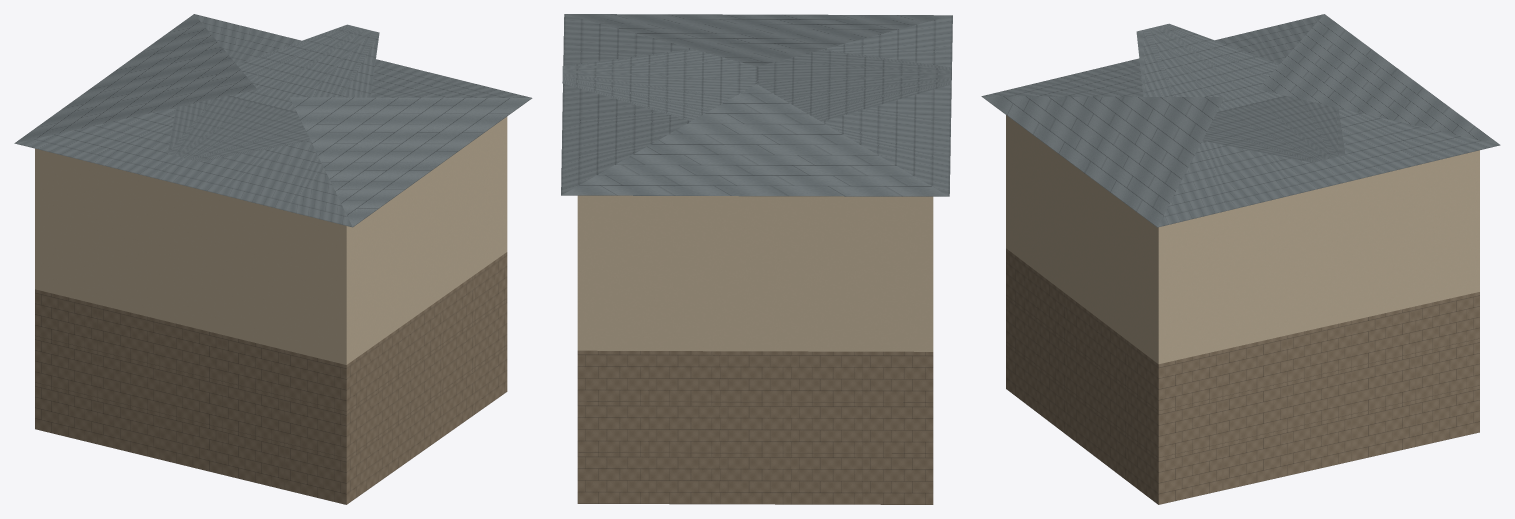
File: bld_c22_32_376.gltf
3 views of the same model, side by side, from view 1: azimuth 30°, elevation 25°; view 2: azimuth 150°, elevation 25°; view 3: azimuth 270°, elevation 25° (orthographic). The views are drawn at different scales.
Visible parts, largest first — view 1: bld_c22_32_376; view 2: bld_c22_32_376; view 3: bld_c22_32_376.
Part boxes in pixels (left/top/right/bottom): bld_c22_32_376: left=14, top=14, right=532, bottom=504; bld_c22_32_376: left=561, top=14, right=952, bottom=504; bld_c22_32_376: left=981, top=14, right=1500, bottom=504.
Bounding box in the file's own units: 16.61 × 11.5 × 17.08.
3 materials, 3 textured.
